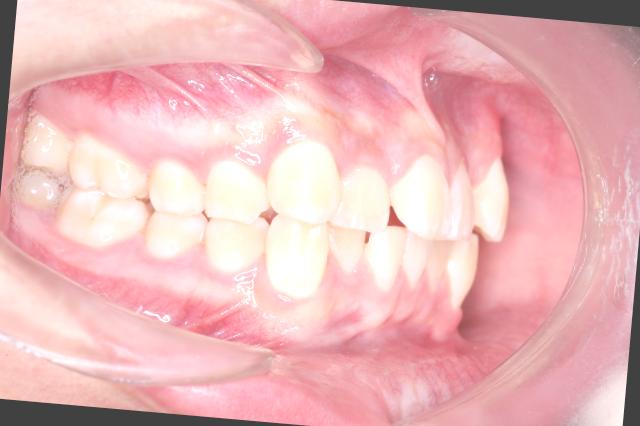canine class II 1/2: (198, 125, 350, 305)
molar class II 1/4: (54, 120, 154, 262)
